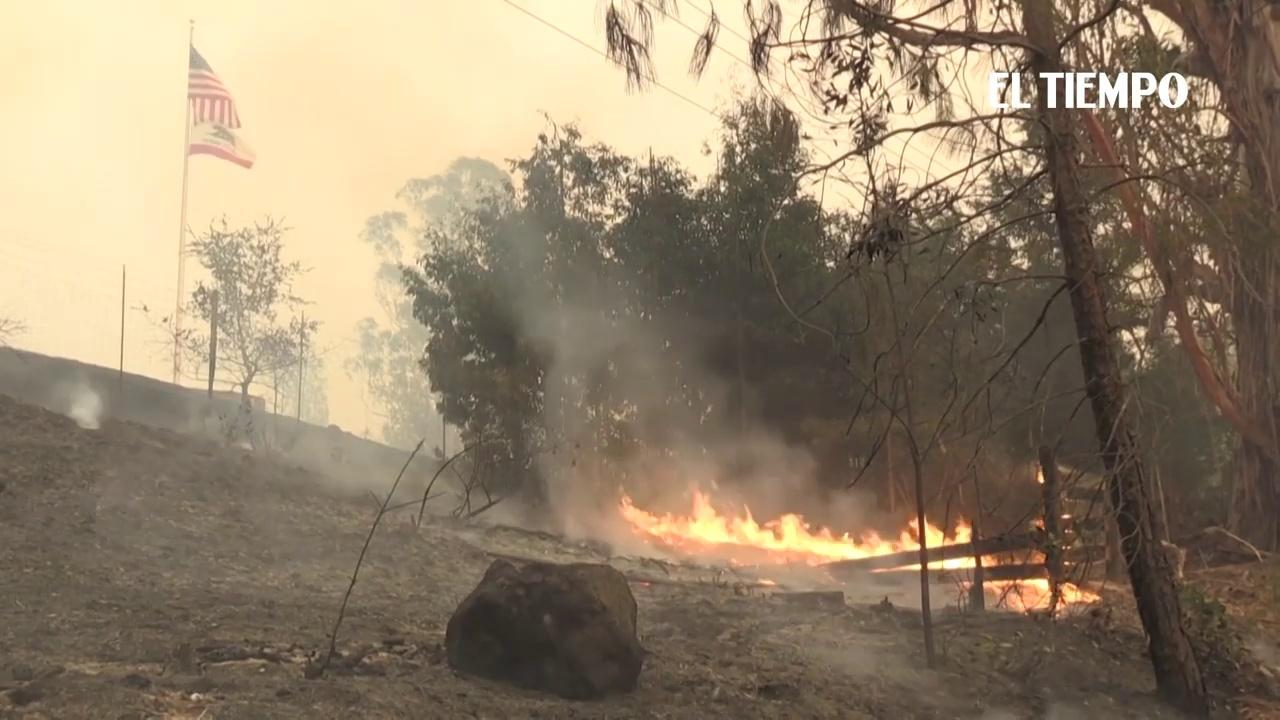Fire: (612, 484, 997, 564), (997, 576, 1103, 616), (1034, 463, 1048, 484)
